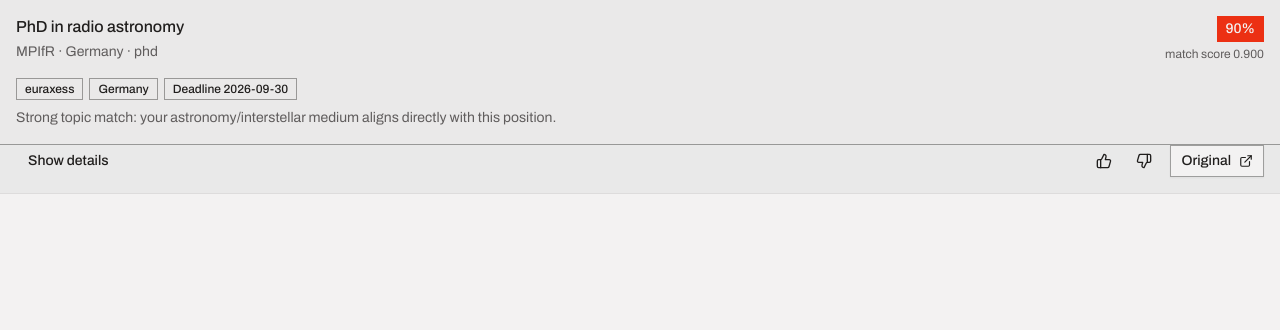
Scenario: MatchCard › expands to show dimension scores
Expected: the text "Why this matches" is not shown
Click the button "Show details" at (68, 161), box [16,145,121,177]
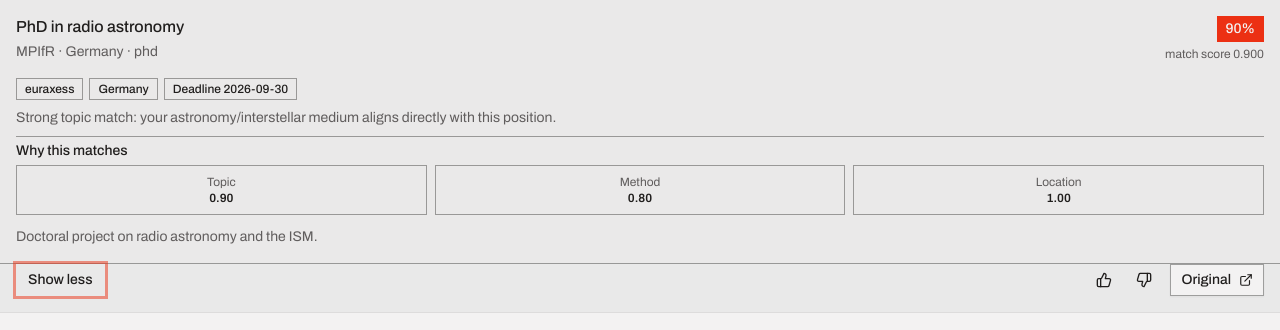
Now the text "Why this matches" is shown, box [16,143,128,158]
Now the text "Topic" is shown, box [207,175,236,189]
Now the text "Method" is shown, box [620,175,660,189]
